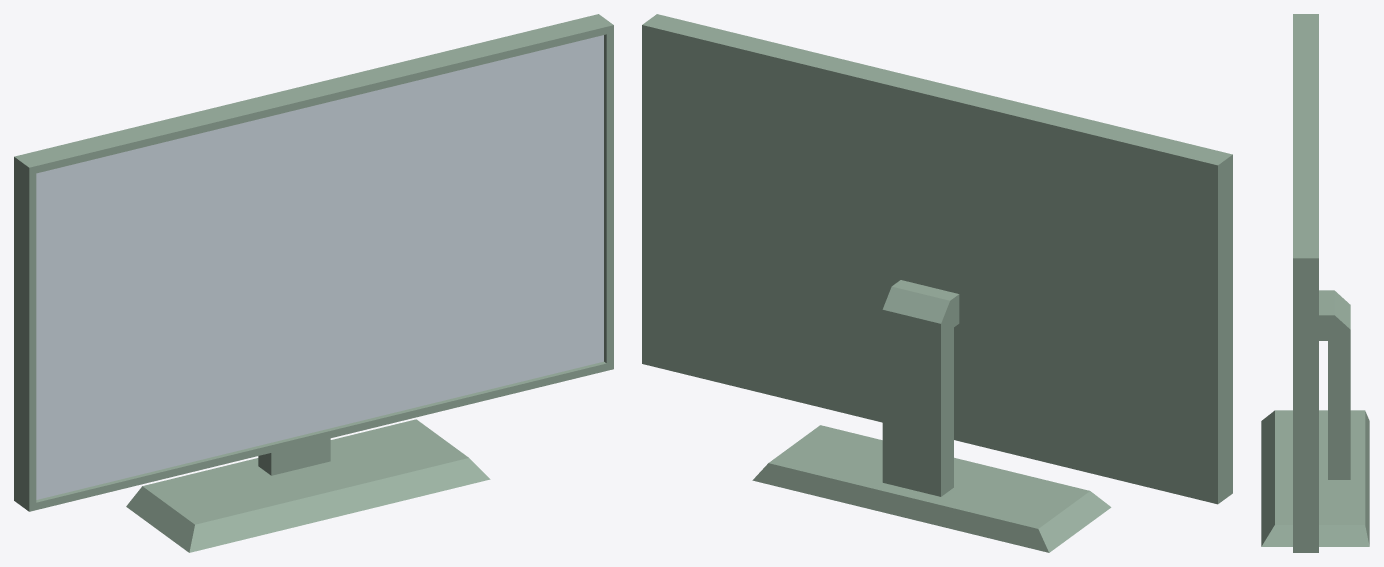
File: televisionModern.glb
The picture shows the model from 3 angles, left to right: view 1: azimuth 30°, elevation 25°; view 2: azimuth 150°, elevation 25°; view 3: azimuth 270°, elevation 25°; orthographic projection. The views are drawn at different scales.
Visible parts, largest first — view 1: televisionModern(Clone); view 2: televisionModern(Clone); view 3: televisionModern(Clone).
Boxes of the visible parts, left/top/right/bottom form: televisionModern(Clone): left=14, top=14, right=613, bottom=552; televisionModern(Clone): left=642, top=14, right=1232, bottom=552; televisionModern(Clone): left=1261, top=14, right=1369, bottom=552.
Bounding box in the file's own units: 0.6848 × 0.4548 × 0.1284.
